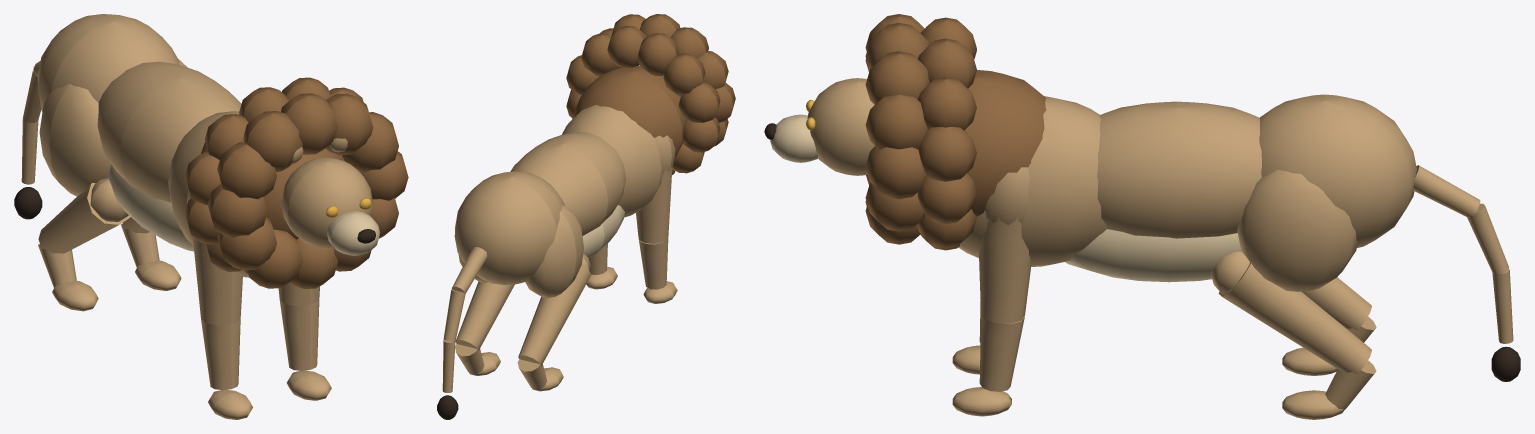
Rendered from leon.glb.
3 views of the same model, side by side, from view 1: azimuth 30°, elevation 25°; view 2: azimuth 150°, elevation 25°; view 3: azimuth 270°, elevation 25° (orthographic). The views are drawn at different scales.
Parts seen in each view (by area): view 1: LEO_Lomo, LEO_Grupa, LEO_Muslo_I, LEO_Cabeza, LEO_Brazo_I, LEO_Tibia_I, LEO_Vientre, LEO_Mechon_A5, LEO_Mechon_A4, LEO_Mechon_A3, LEO_Pecho, LEO_Antebrazo_D (+29 smaller); view 2: LEO_Grupa, LEO_Lomo, LEO_Melena_Cuello, LEO_Pecho, LEO_Muslo_I, LEO_Tibia_I, LEO_Tibia_D, LEO_Brazo_I, LEO_Mechon_B4, LEO_Mechon_B3, LEO_Mechon_B5, LEO_Mechon_B2 (+23 smaller); view 3: LEO_Lomo, LEO_Grupa, LEO_Pecho, LEO_Muslo_D, LEO_Melena_Cuello, LEO_Vientre, LEO_Tibia_D, LEO_Cabeza, LEO_Brazo_D, LEO_Mechon_A1, LEO_Mechon_B0, LEO_Antebrazo_D (+22 smaller).
Part boxes in pixels (x1,y1,x2,y2): LEO_Lomo: (97,61,241,202); LEO_Grupa: (37,14,179,112); LEO_Muslo_I: (39,84,111,196); LEO_Cabeza: (281,157,372,248); LEO_Brazo_I: (192,236,242,325); LEO_Tibia_I: (38,182,130,253); LEO_Vientre: (108,164,194,251); LEO_Mechon_A5: (217,142,276,199); LEO_Mechon_A4: (243,111,302,171); LEO_Mechon_A3: (281,93,337,154); LEO_Pecho: (168,111,249,277); LEO_Antebrazo_D: (280,298,319,370); LEO_Grupa: (454,171,564,284); LEO_Lomo: (510,132,626,235); LEO_Melena_Cuello: (574,66,685,157); LEO_Pecho: (562,105,662,217); LEO_Muslo_I: (525,205,583,297); LEO_Tibia_I: (518,264,591,365); LEO_Tibia_D: (455,281,514,350); LEO_Brazo_I: (636,163,672,243); LEO_Mechon_B4: (663,53,705,96); LEO_Mechon_B3: (637,33,678,76); LEO_Mechon_B5: (678,82,720,122); LEO_Mechon_B2: (607,26,646,67); LEO_Lomo: (1097,101,1261,238); LEO_Grupa: (1259,94,1416,247); LEO_Pecho: (958,96,1107,266); LEO_Muslo_D: (1237,170,1357,291); LEO_Melena_Cuello: (964,70,1046,216); LEO_Vientre: (1065,229,1241,282); LEO_Tibia_D: (1218,262,1371,374); LEO_Cabeza: (807,78,874,175); LEO_Brazo_D: (978,215,1031,323); LEO_Mechon_A1: (865,94,927,149); LEO_Mechon_B0: (918,127,976,181); LEO_Antebrazo_D: (979,314,1024,391).
Bounding box in the file's own units: 0.9548 × 1.57 × 2.92.
